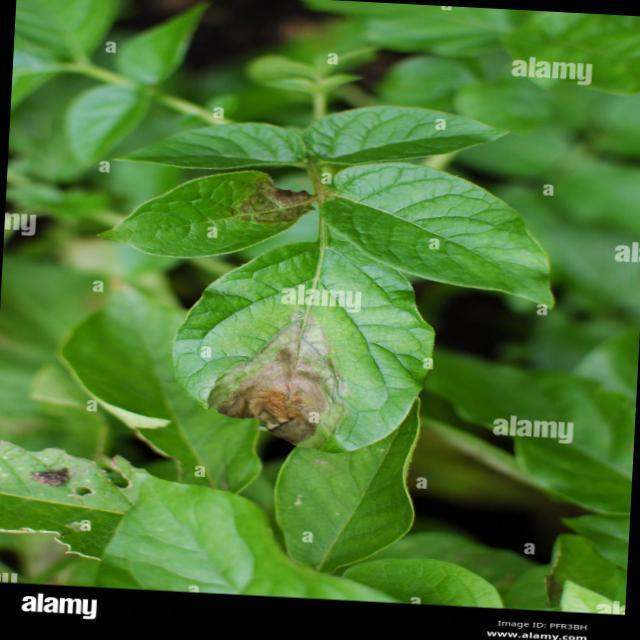Healthy Leaf: (323, 168, 586, 314), (302, 91, 503, 168), (95, 113, 312, 174)
